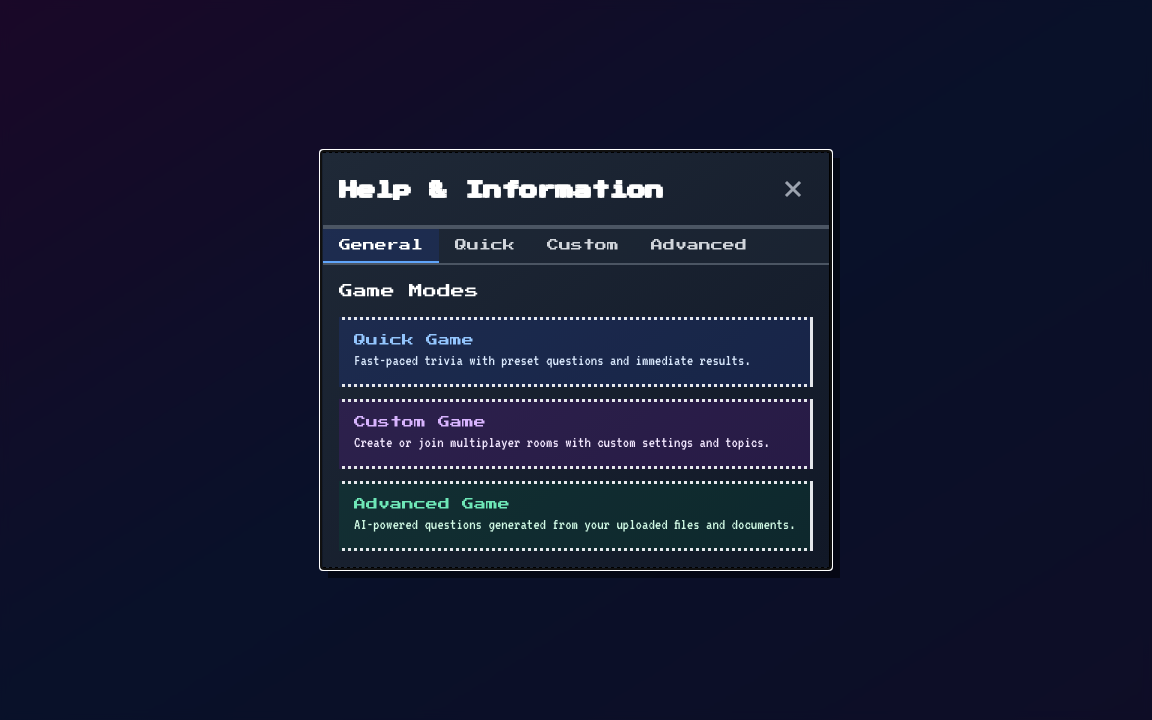
Test: HelpModal › Tab Content › should switch to custom tab content when clicked
The width and height of the screenshot is (1152, 720).
Click the button "custom" at (583, 246), box [531, 229, 635, 263]
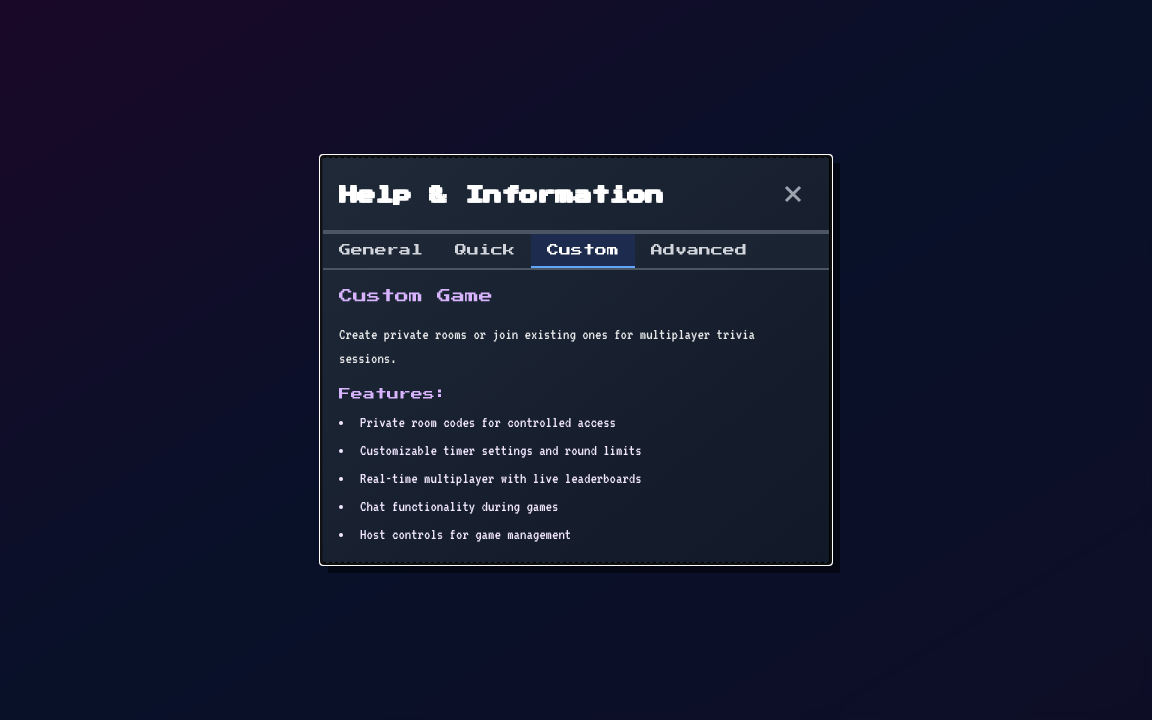
Result: the heading "Custom Game" is shown at [339, 289, 493, 303]
Result: the list item "Private room codes for controlled access" is shown at [360, 414, 616, 430]
